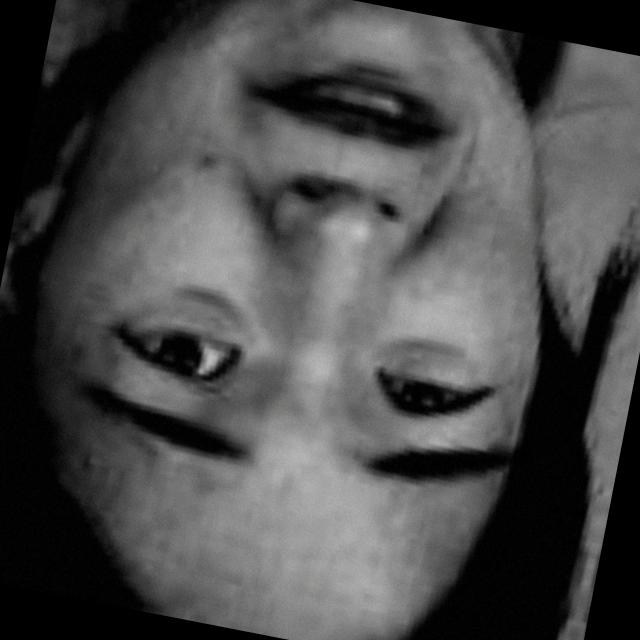disgust: (44, 0, 593, 612)
